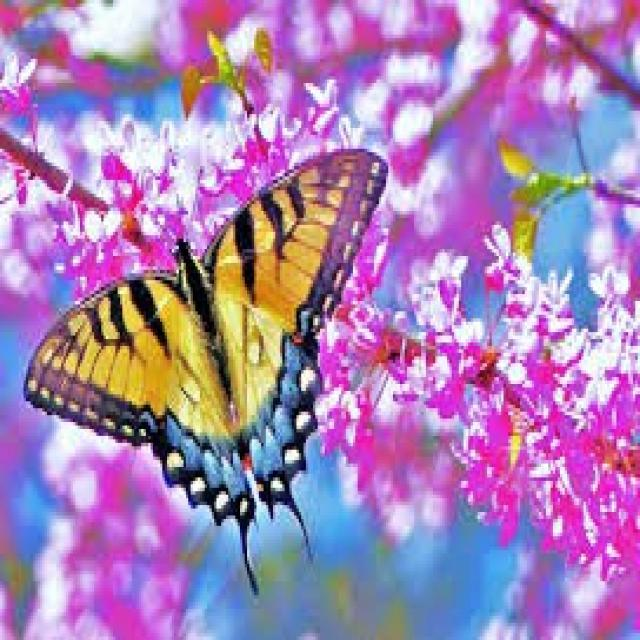butterfly: (26, 149, 386, 588)
